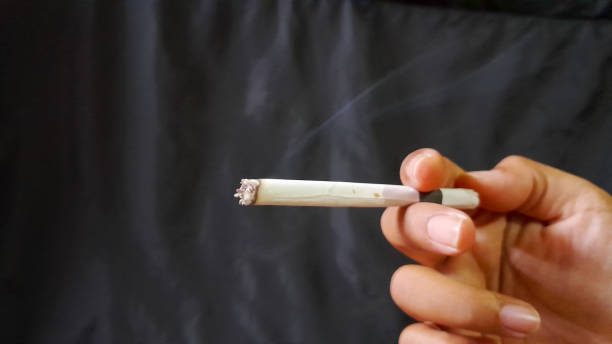cigarette: (233, 170, 478, 215)
